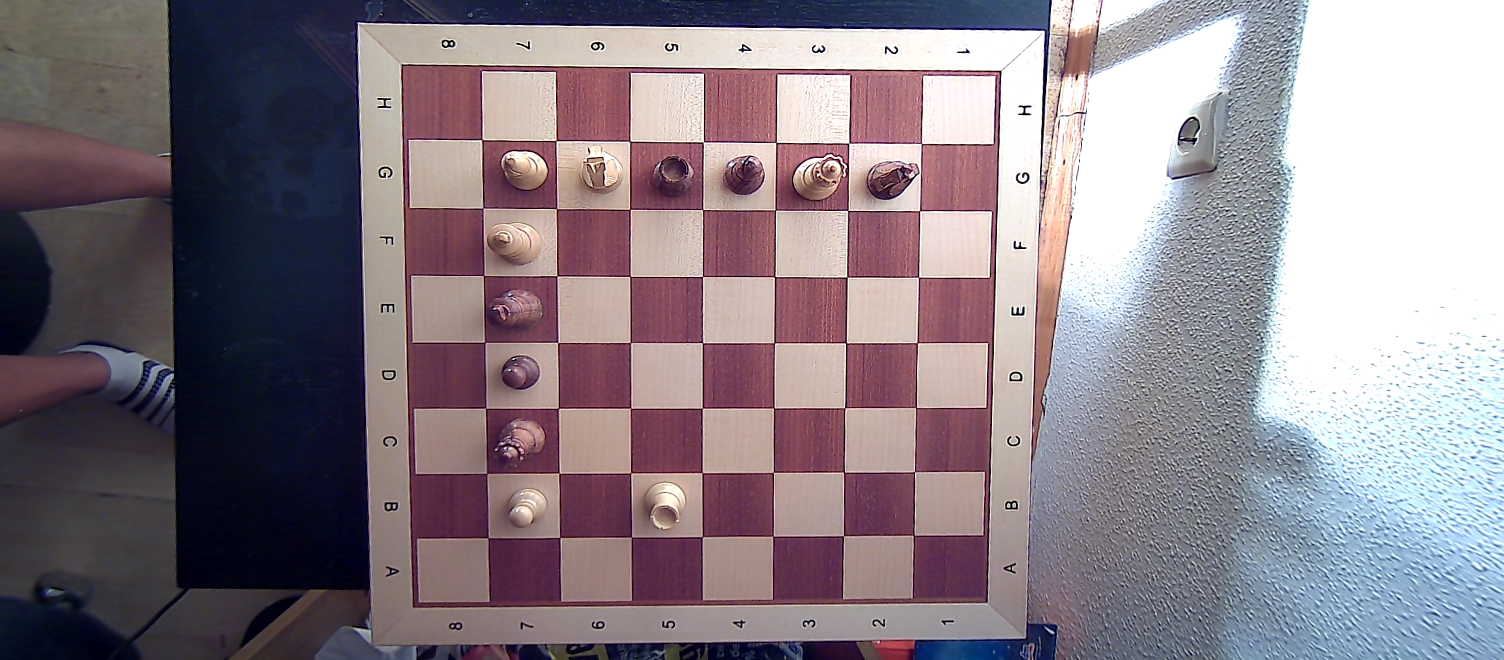black-bishop: (719, 152, 769, 199)
black-king: (485, 285, 549, 335)
black-knight: (863, 153, 924, 204)
black-pawn: (497, 352, 542, 392)
black-queen: (488, 418, 547, 467)
black-rook: (648, 150, 697, 195)
white-bishop: (496, 145, 551, 191)
white-king: (483, 216, 542, 269)
white-knight: (574, 142, 624, 197)
white-pawn: (502, 484, 550, 530)
white-queen: (792, 150, 849, 201)
white-rook: (639, 476, 691, 533)
